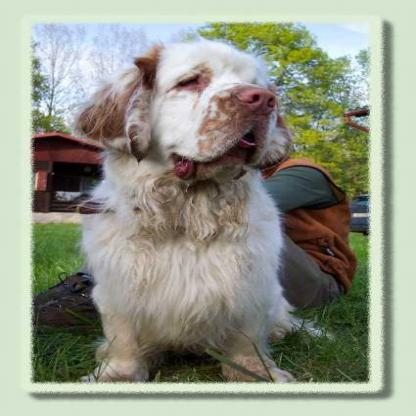Sussex_spaniel: (65, 31, 323, 384)
